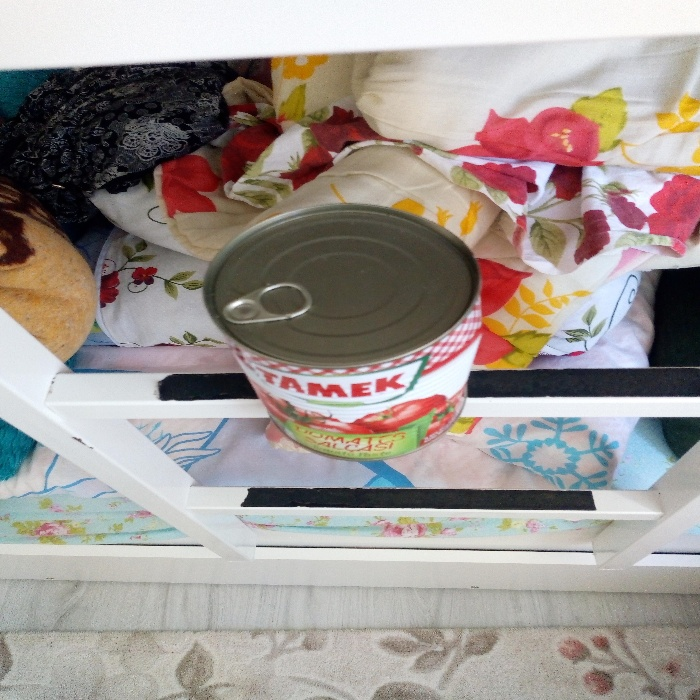salca: (202, 183, 478, 472)
